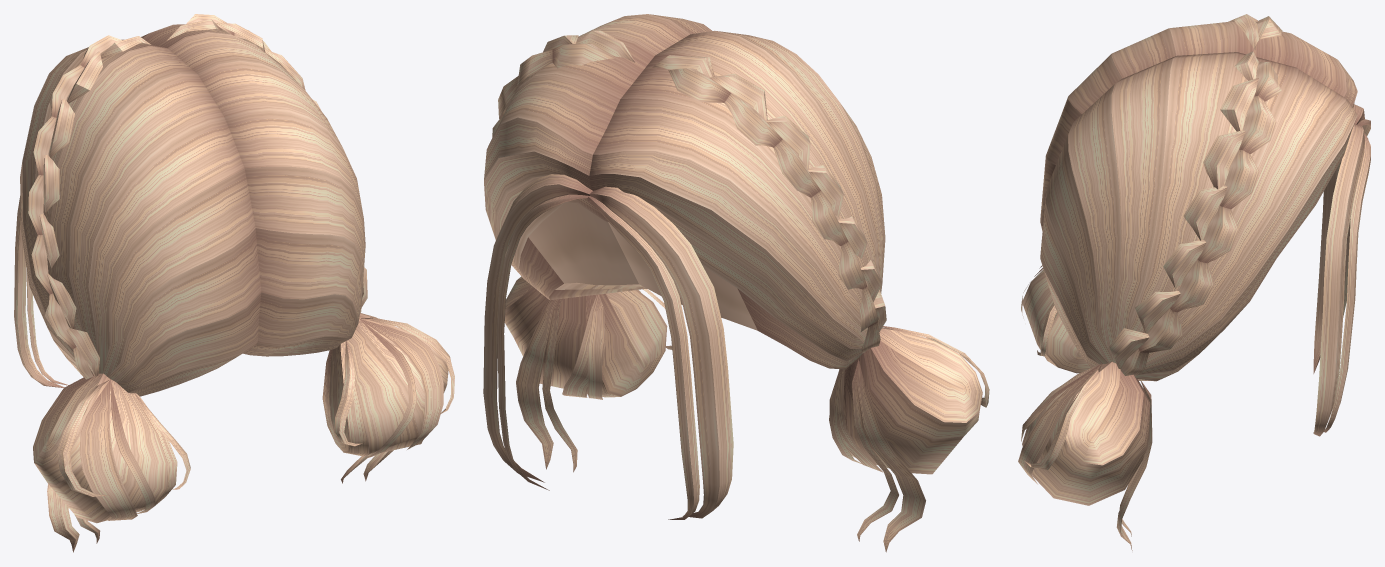
The picture shows the model from 3 angles, left to right: view 1: azimuth 30°, elevation 25°; view 2: azimuth 150°, elevation 25°; view 3: azimuth 270°, elevation 25°; orthographic projection. The views are drawn at different scales.
Parts seen in each view (by area): view 1: geometry_0; view 2: geometry_0; view 3: geometry_0.
Boxes of the visible parts, box(x1,y1,x2,y2) form: geometry_0: box(14, 14, 454, 552); geometry_0: box(483, 14, 989, 552); geometry_0: box(1018, 14, 1370, 550).
Bounding box in the file's own units: 2 × 2.09 × 1.51.
1 material, 1 textured.
